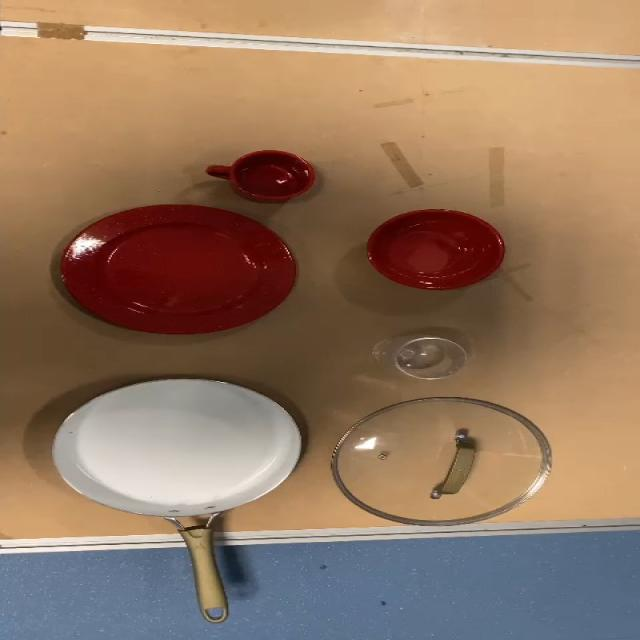Bowl: (362, 207, 505, 296)
Glass: (382, 332, 473, 386)
Plate: (53, 201, 300, 340)
cup: (203, 149, 315, 199)
pot: (48, 376, 307, 626)
